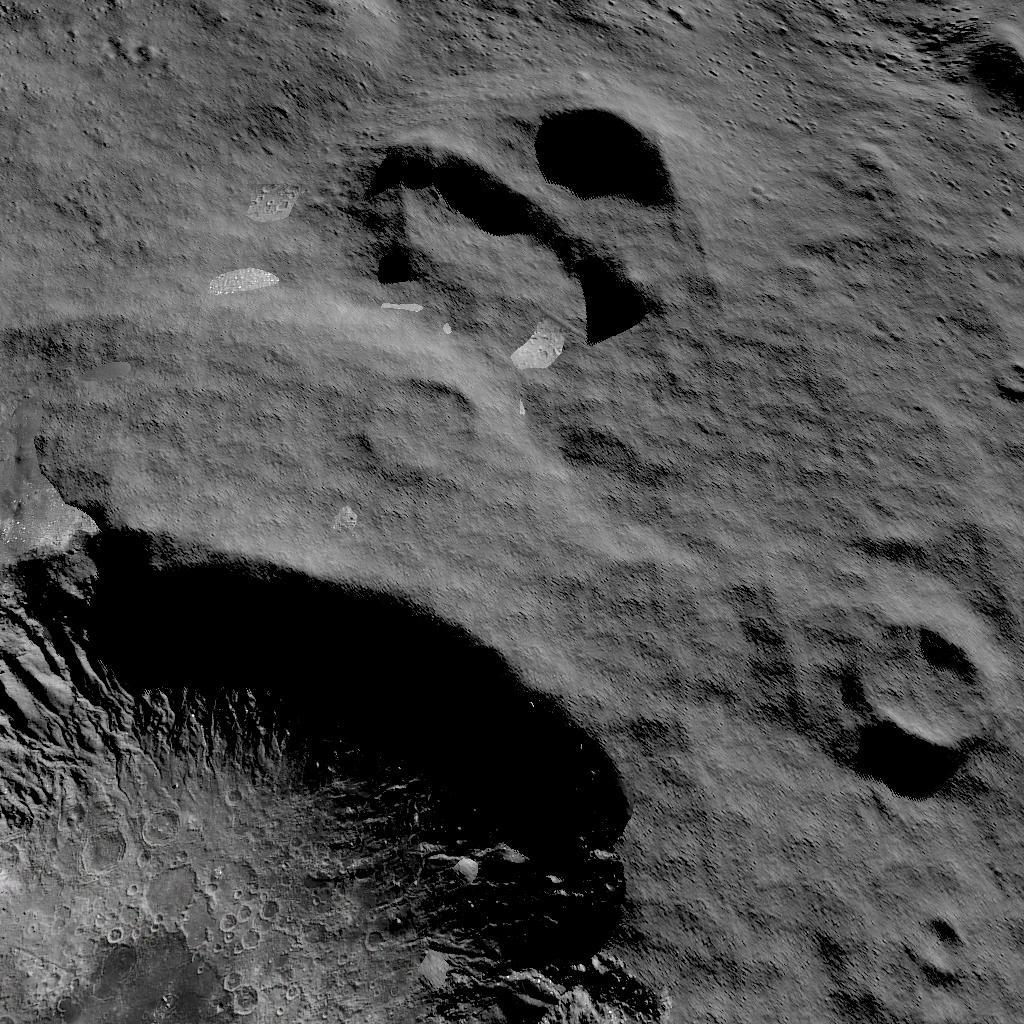Crater: (0, 508, 695, 1024), (358, 74, 733, 352), (828, 620, 986, 800), (359, 360, 496, 489)
Plan surface: (0, 0, 346, 495), (777, 113, 1024, 580)
